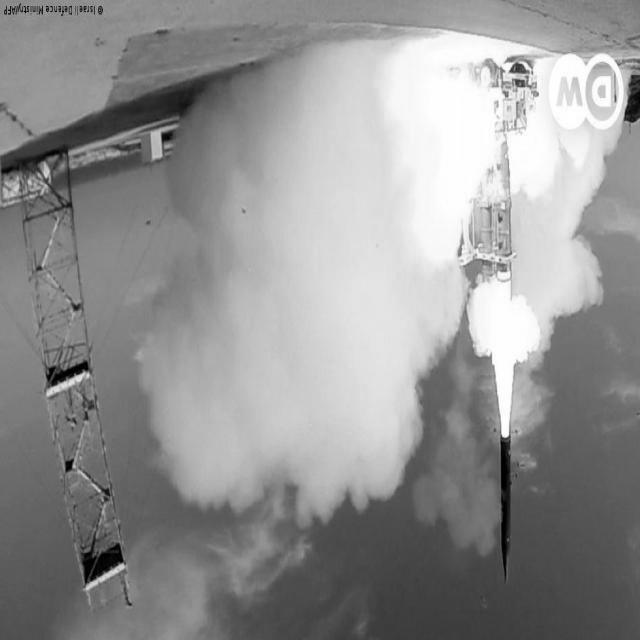Missile: (493, 424, 517, 588)
